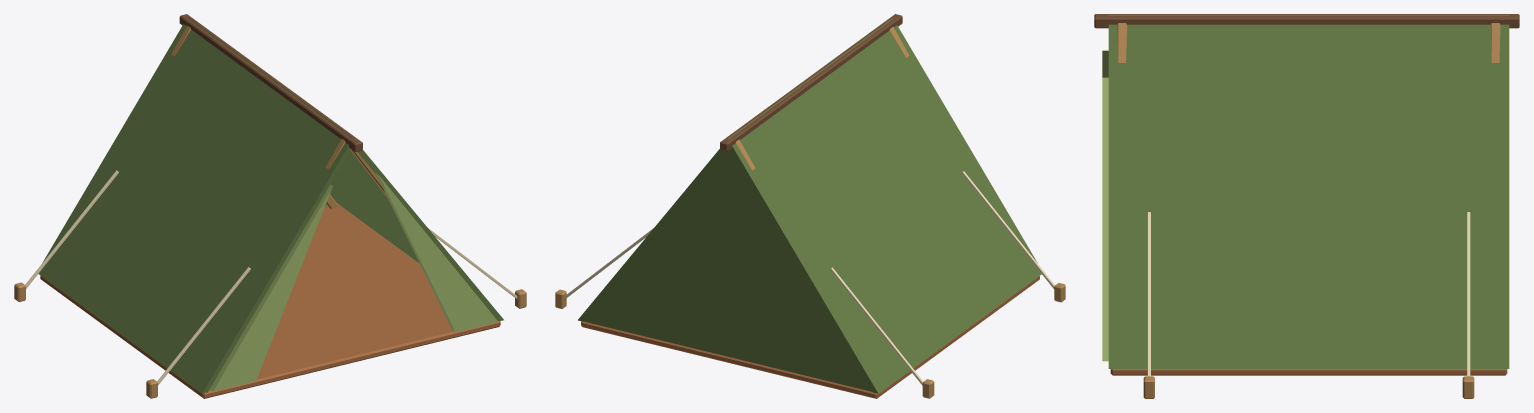
The model's file is 01_Ridge_Tent.glb.
The picture shows the model from 3 angles, left to right: view 1: azimuth 30°, elevation 25°; view 2: azimuth 150°, elevation 25°; view 3: azimuth 270°, elevation 25°; orthographic projection. The views are drawn at different scales.
Parts seen in each view (by area): view 1: 01_Ridge_Tent__Body; view 2: 01_Ridge_Tent__Body; view 3: 01_Ridge_Tent__Body.
Boxes of the visible parts, x1=… form: 01_Ridge_Tent__Body: x1=14, y1=14, x2=526, y2=398; 01_Ridge_Tent__Body: x1=555, y1=14, x2=1065, y2=398; 01_Ridge_Tent__Body: x1=1094, y1=14, x2=1519, y2=398.
Size of the model in its own units: 5.44 by 3.12 by 4.4.
Materials: 1 (1 with a texture image).
